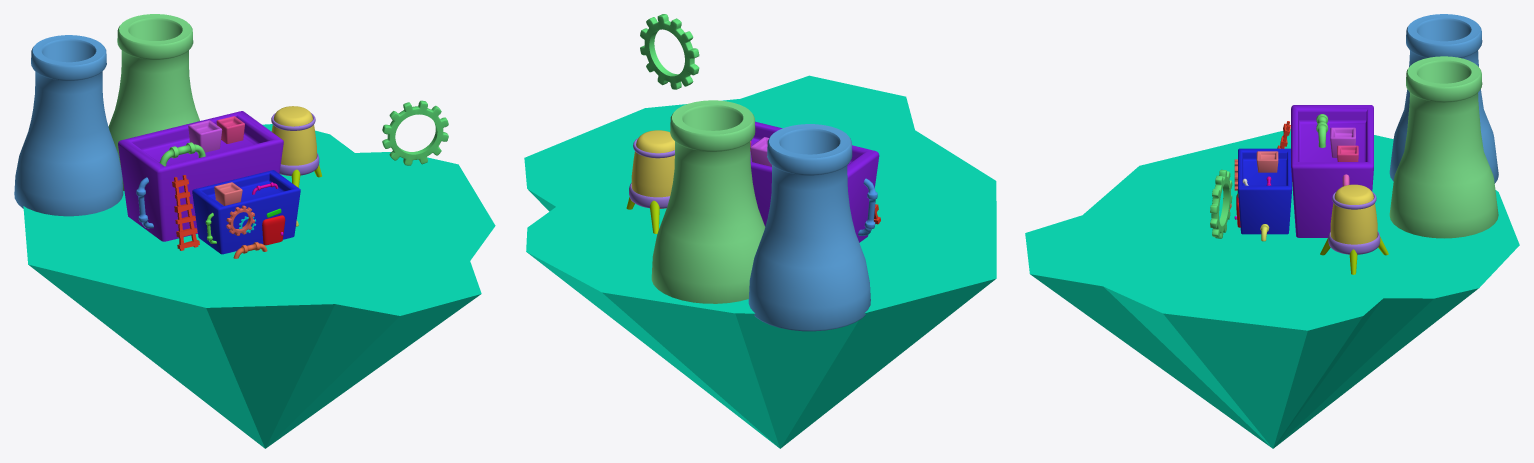
The model's file is isla_sucia_prueba_uvs.fbx.
3 views of the same model, side by side, from view 1: azimuth 30°, elevation 25°; view 2: azimuth 150°, elevation 25°; view 3: azimuth 270°, elevation 25° (orthographic). The views are drawn at different scales.
Visible parts, largest first — view 1: MainIsland.fran.001, torre centralN2.004, Cube.286, torre centralN2.005, Cube.288, Cylinder.020, Gear.007, Cube.287, chimenea1.009, chimenea1.008, Cube.289, chimenea1.007 (+1 smaller); view 2: MainIsland.fran.001, torre centralN2.004, torre centralN2.005, Cube.286, Cylinder.020, Gear.007, Tuberia.017; view 3: MainIsland.fran.001, torre centralN2.005, Cube.286, torre centralN2.004, Cube.288, Cylinder.020, Gear.007, Torus.006, chimenea1.009.
Boxes of the visible parts, left/top/right/bottom form: MainIsland.fran.001: left=23, top=124, right=495, bottom=448; torre centralN2.004: left=14, top=35, right=123, bottom=216; Cube.286: left=118, top=111, right=283, bottom=241; torre centralN2.005: left=108, top=14, right=199, bottom=190; Cube.288: left=192, top=170, right=300, bottom=254; Cylinder.020: left=271, top=106, right=316, bottom=176; Gear.007: left=382, top=100, right=448, bottom=165; Cube.287: left=172, top=175, right=199, bottom=250; chimenea1.009: left=188, top=120, right=222, bottom=152; chimenea1.008: left=216, top=116, right=244, bottom=143; Cube.289: left=262, top=215, right=285, bottom=245; chimenea1.007: left=214, top=182, right=242, bottom=205; MainIsland.fran.001: left=524, top=75, right=996, bottom=448; torre centralN2.004: left=748, top=124, right=870, bottom=331; torre centralN2.005: left=651, top=100, right=765, bottom=303; Cube.286: left=750, top=121, right=879, bottom=242; Cylinder.020: left=631, top=130, right=674, bottom=208; Gear.007: left=640, top=14, right=699, bottom=89; Tuberia.017: left=858, top=178, right=877, bottom=235; MainIsland.fran.001: left=1025, top=129, right=1519, bottom=448; torre centralN2.005: left=1389, top=56, right=1498, bottom=238; Cube.286: left=1291, top=105, right=1373, bottom=237; torre centralN2.004: left=1389, top=14, right=1498, bottom=183; Cube.288: left=1238, top=148, right=1291, bottom=234; Cylinder.020: left=1330, top=184, right=1377, bottom=244; Gear.007: left=1210, top=169, right=1232, bottom=238; Torus.006: left=1328, top=231, right=1380, bottom=254; chimenea1.009: left=1330, top=127, right=1355, bottom=157.
Bounding box in the file's own units: 2221 × 1813 × 2227.
